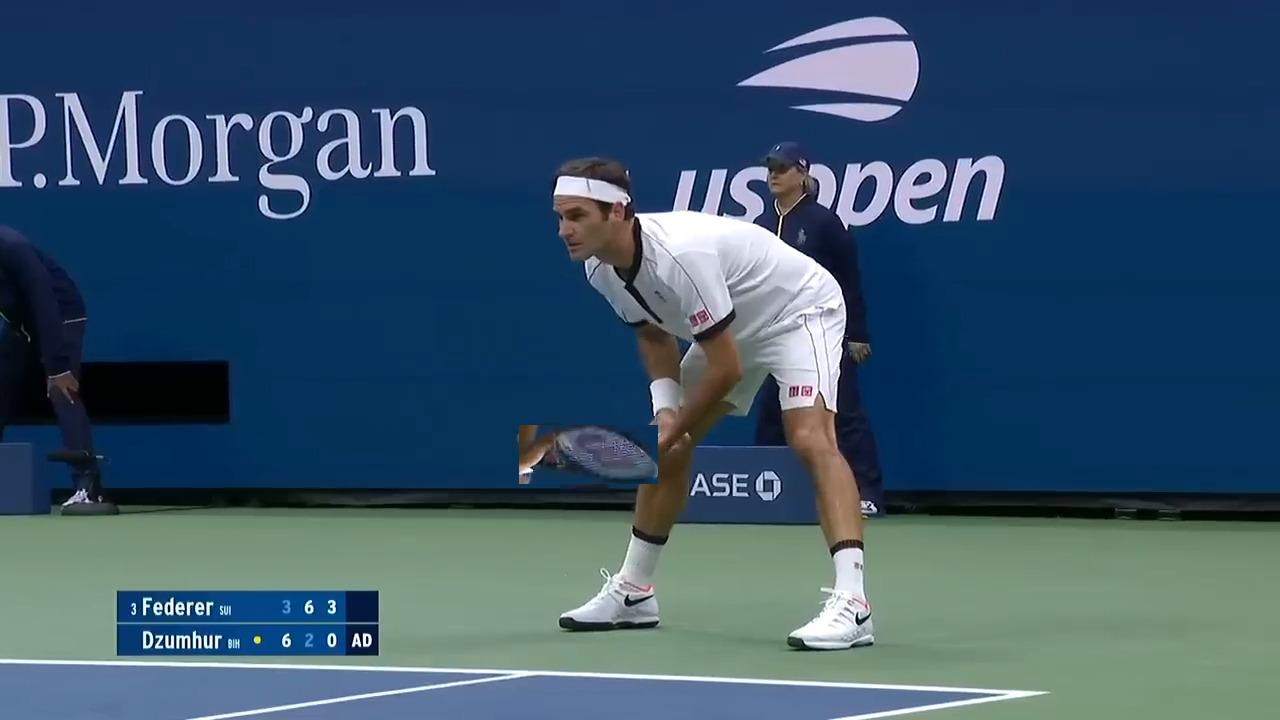tennis racket: (519, 425, 658, 484)
